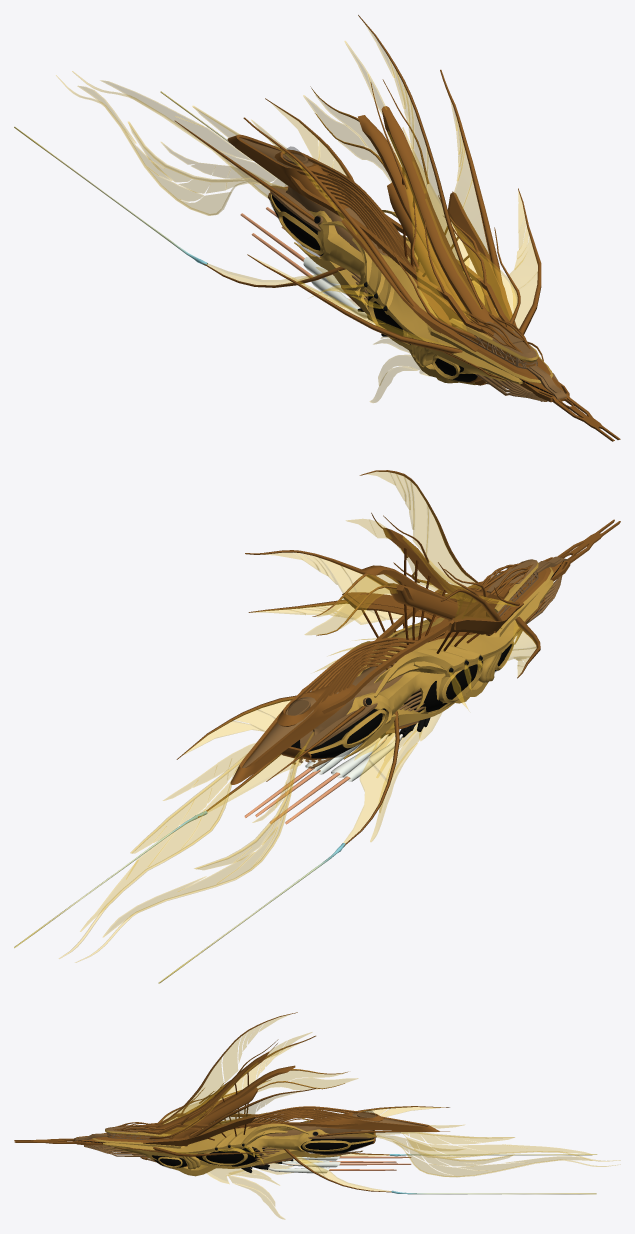
Rendered from CAP_OKA_JodAsteris_LowRes.fbx.
3 views of the same model, one above another, from view 1: azimuth 30°, elevation 25°; view 2: azimuth 150°, elevation 25°; view 3: azimuth 270°, elevation 25° (orthographic). The views are drawn at different scales.
Parts seen in each view (by area): view 1: mesh_hull, mesh_glass, mesh_vfx_engine_flares.003, mesh_vfx_wakes, mesh_vfx_engine_flares.001; view 2: mesh_hull, mesh_glass, mesh_vfx_engine_flares.003, mesh_vfx_engine_flares.001, mesh_vfx_wakes; view 3: mesh_hull, mesh_glass, mesh_vfx_wakes, mesh_vfx_engine_flares.003, mesh_vfx_engine_flares.001.
Boxes of the visible parts, x1,y1,x2,y2 form: mesh_hull: (174,15,620,441); mesh_glass: (56,25,537,402); mesh_vfx_engine_flares.003: (303,257,367,318); mesh_vfx_wakes: (14,91,287,265); mesh_vfx_engine_flares.001: (240,207,320,277); mesh_hull: (176,470,620,846); mesh_glass: (59,471,536,962); mesh_vfx_engine_flares.003: (305,734,402,781); mesh_vfx_engine_flares.001: (244,767,350,824); mesh_vfx_wakes: (14,811,345,983); mesh_hull: (14,1012,449,1192); mesh_glass: (111,1015,620,1219); mesh_vfx_wakes: (389,1154,597,1194); mesh_vfx_engine_flares.003: (268,1156,340,1173); mesh_vfx_engine_flares.001: (329,1156,411,1170).
Bounding box in the file's own units: 144 × 192 × 510.
